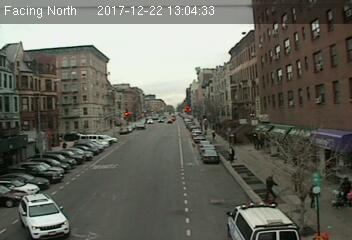car: (16, 194, 74, 238), (200, 148, 217, 162)
pedestrian: (263, 173, 276, 201)
police: (228, 198, 297, 240)
